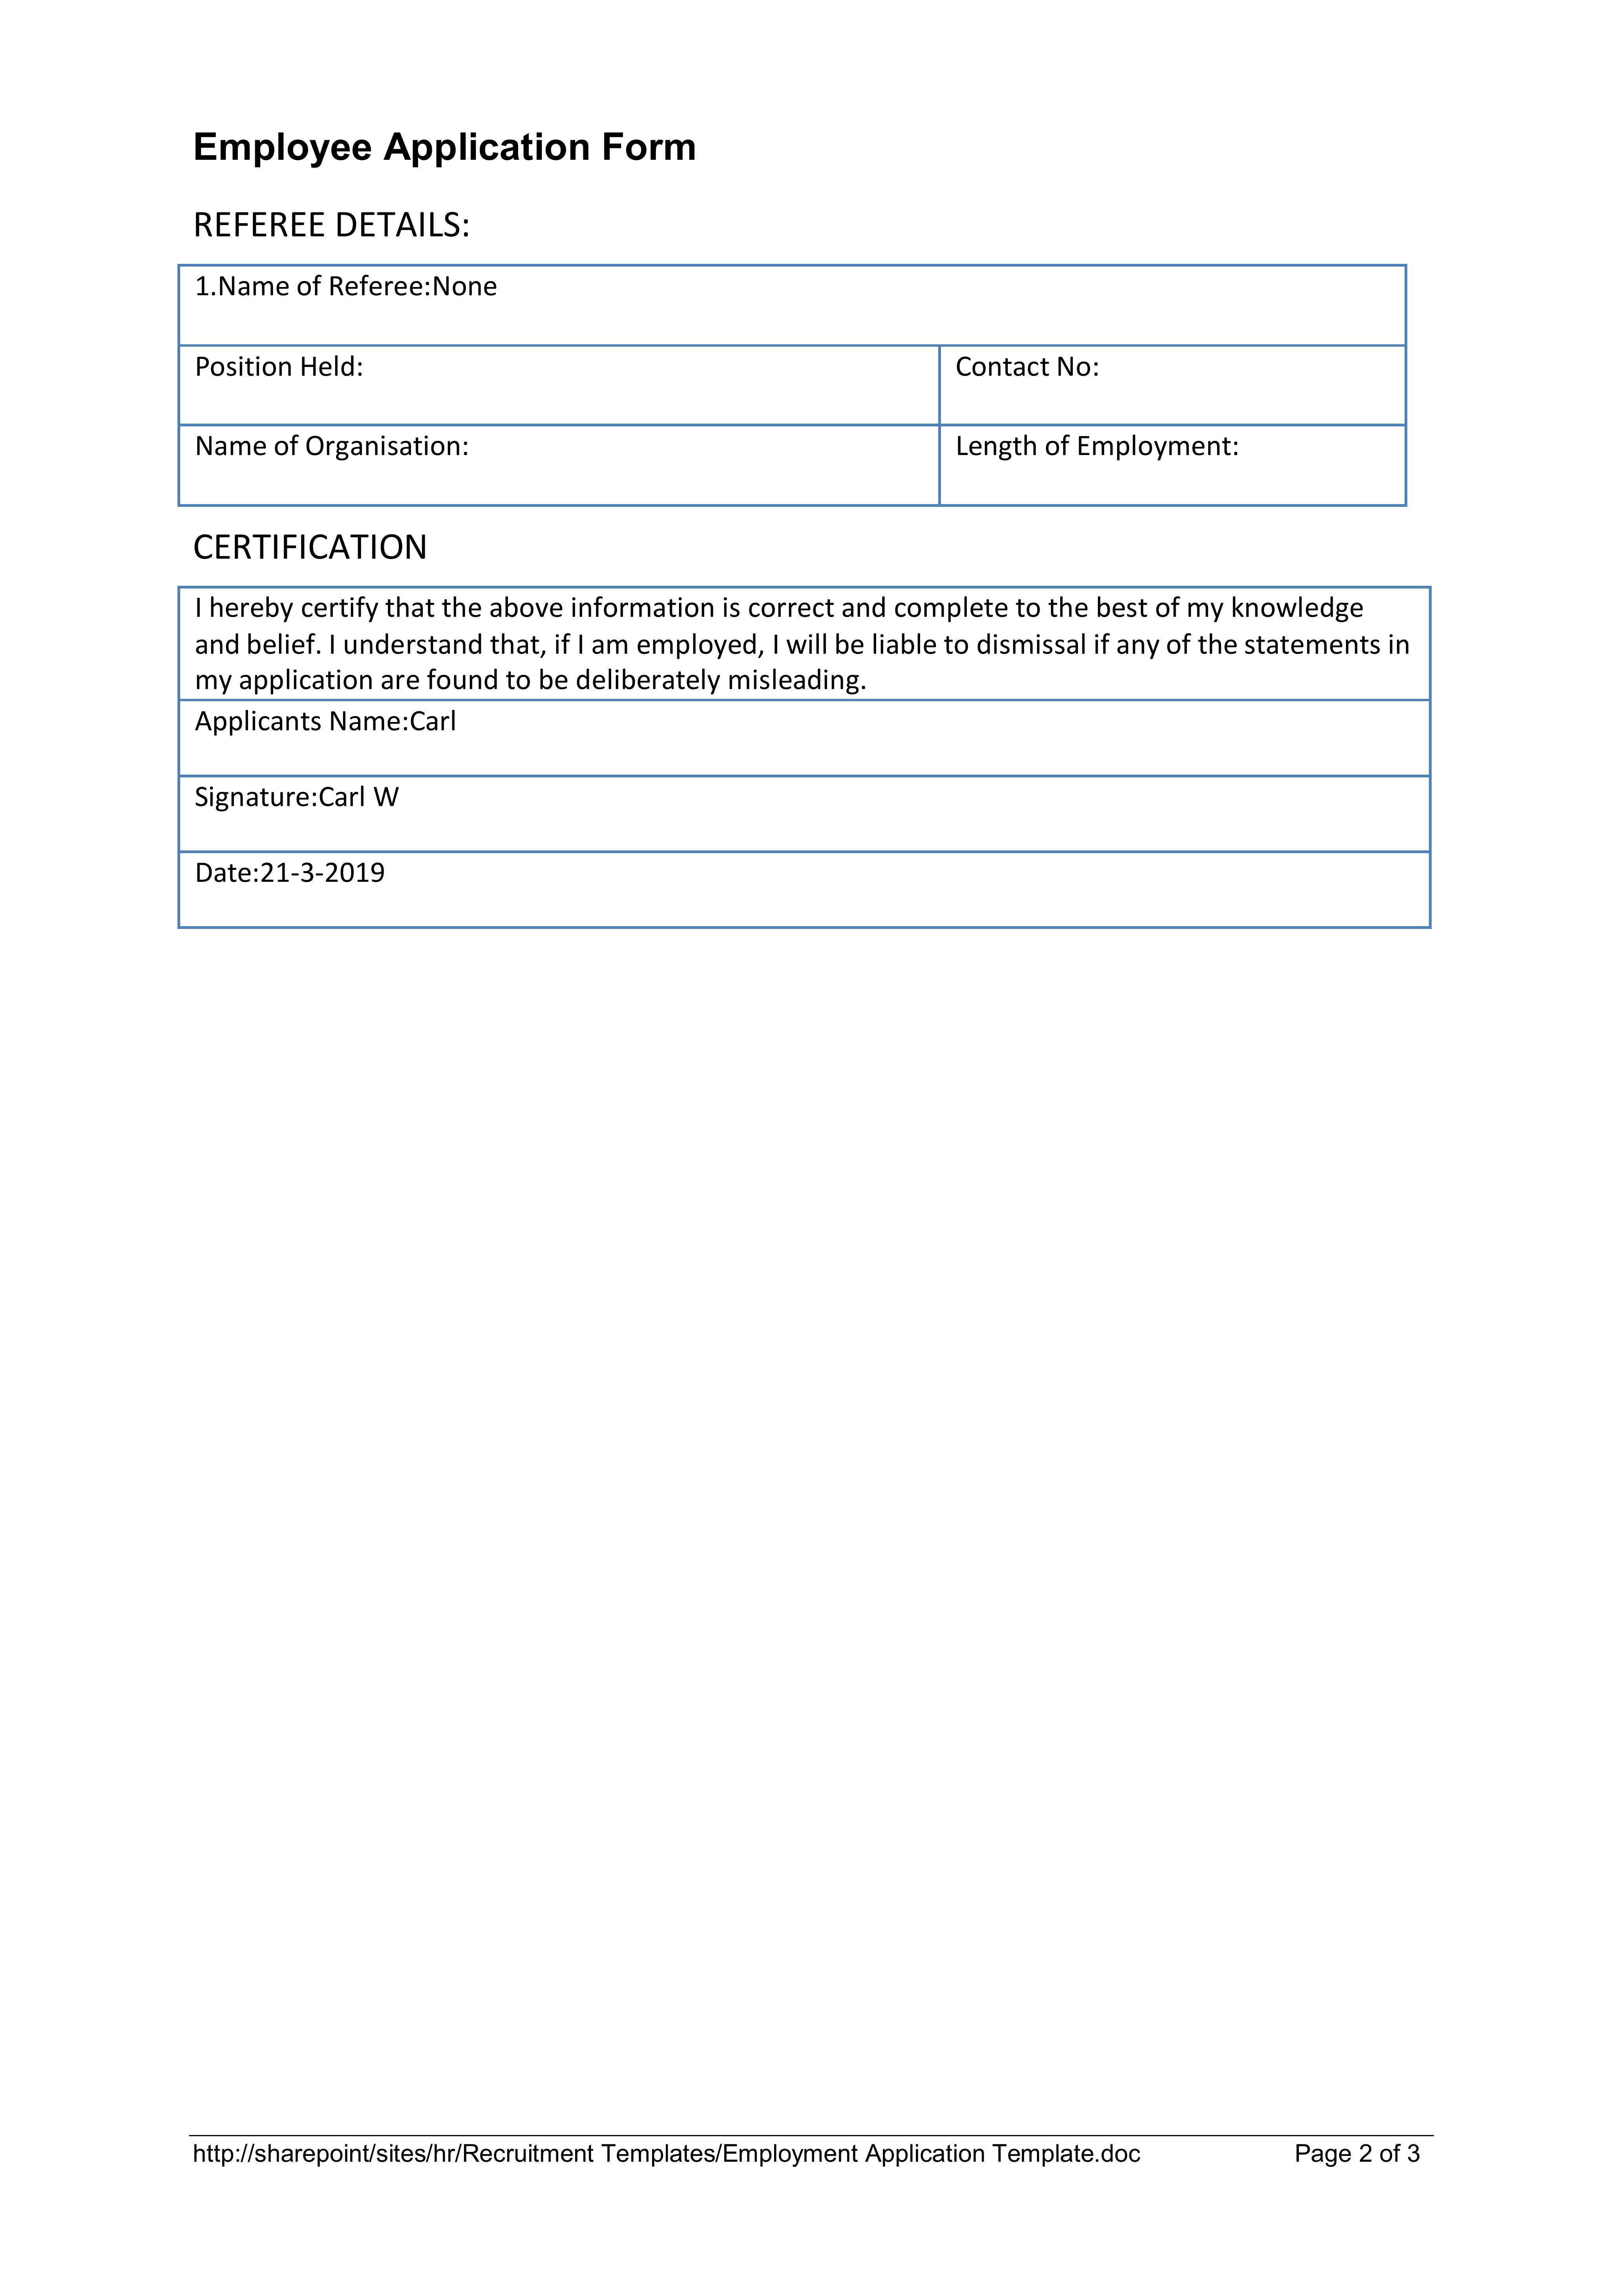table: (181, 584, 1429, 926), (181, 269, 1410, 503)
